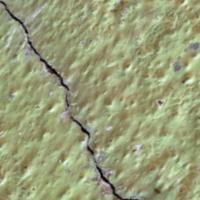crack: (3, 1, 142, 199)
